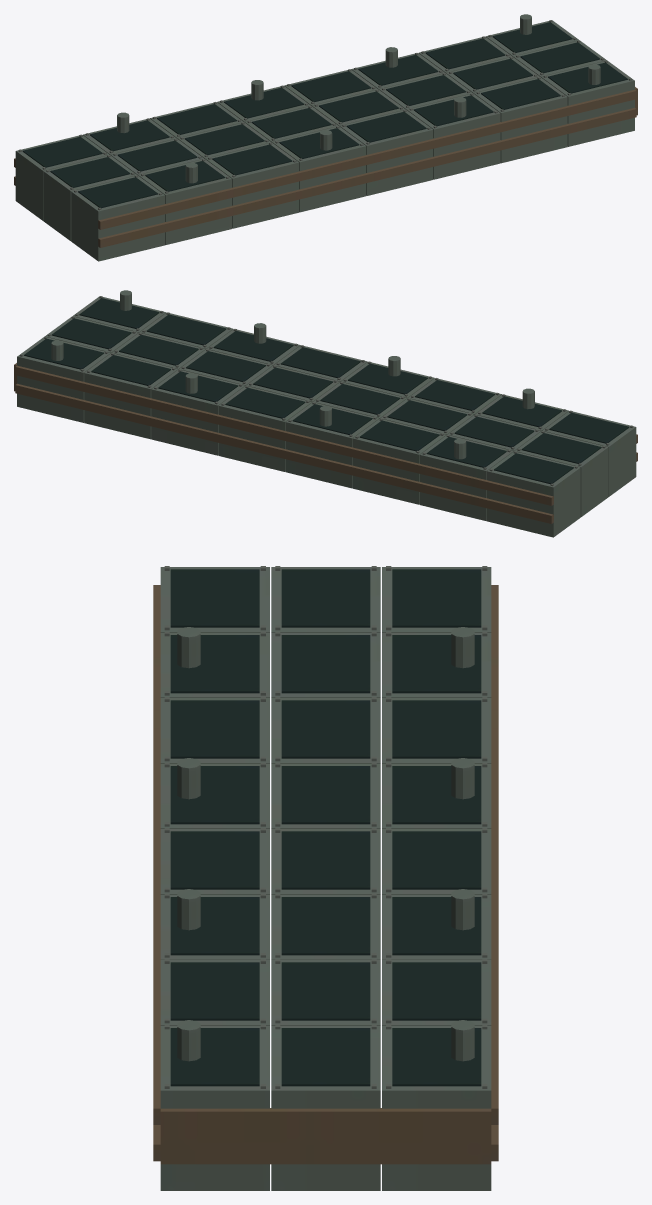
File: pontoon-pier-segment.glb
The picture shows the model from 3 angles, top to bottom: view 1: azimuth 30°, elevation 25°; view 2: azimuth 150°, elevation 25°; view 3: azimuth 270°, elevation 25°; orthographic projection. The views are drawn at different scales.
Parts seen in each view (by area): view 1: pontoon-pier-segment_dark; view 2: pontoon-pier-segment_dark; view 3: pontoon-pier-segment_dark.
Boxes of the visible parts, <box> form: pontoon-pier-segment_dark: <box>14,14,637,261</box>; pontoon-pier-segment_dark: <box>14,290,637,537</box>; pontoon-pier-segment_dark: <box>153,566,498,1190</box>.
Bounding box in the file's own units: 17.15 × 2.02 × 4.75.
Materials: 1 (1 with a texture image).
